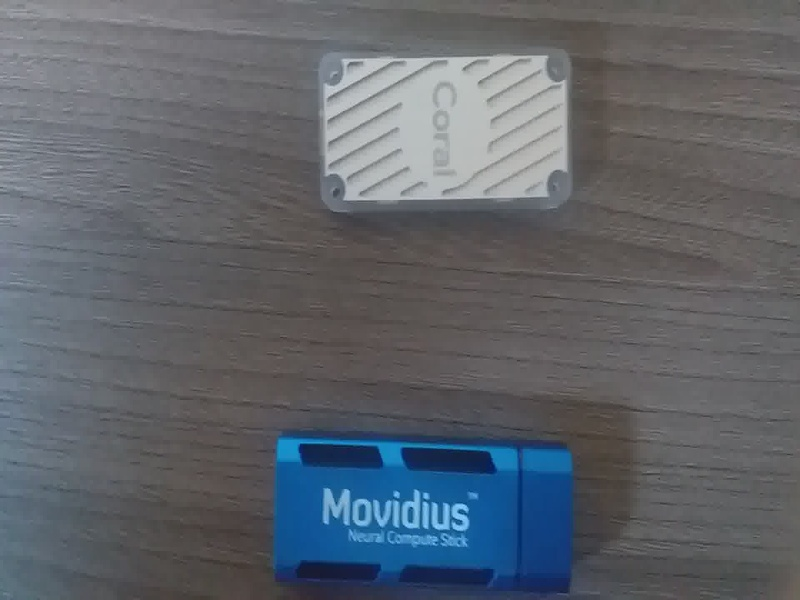coral: (302, 41, 598, 230)
movidius: (260, 423, 594, 600)
